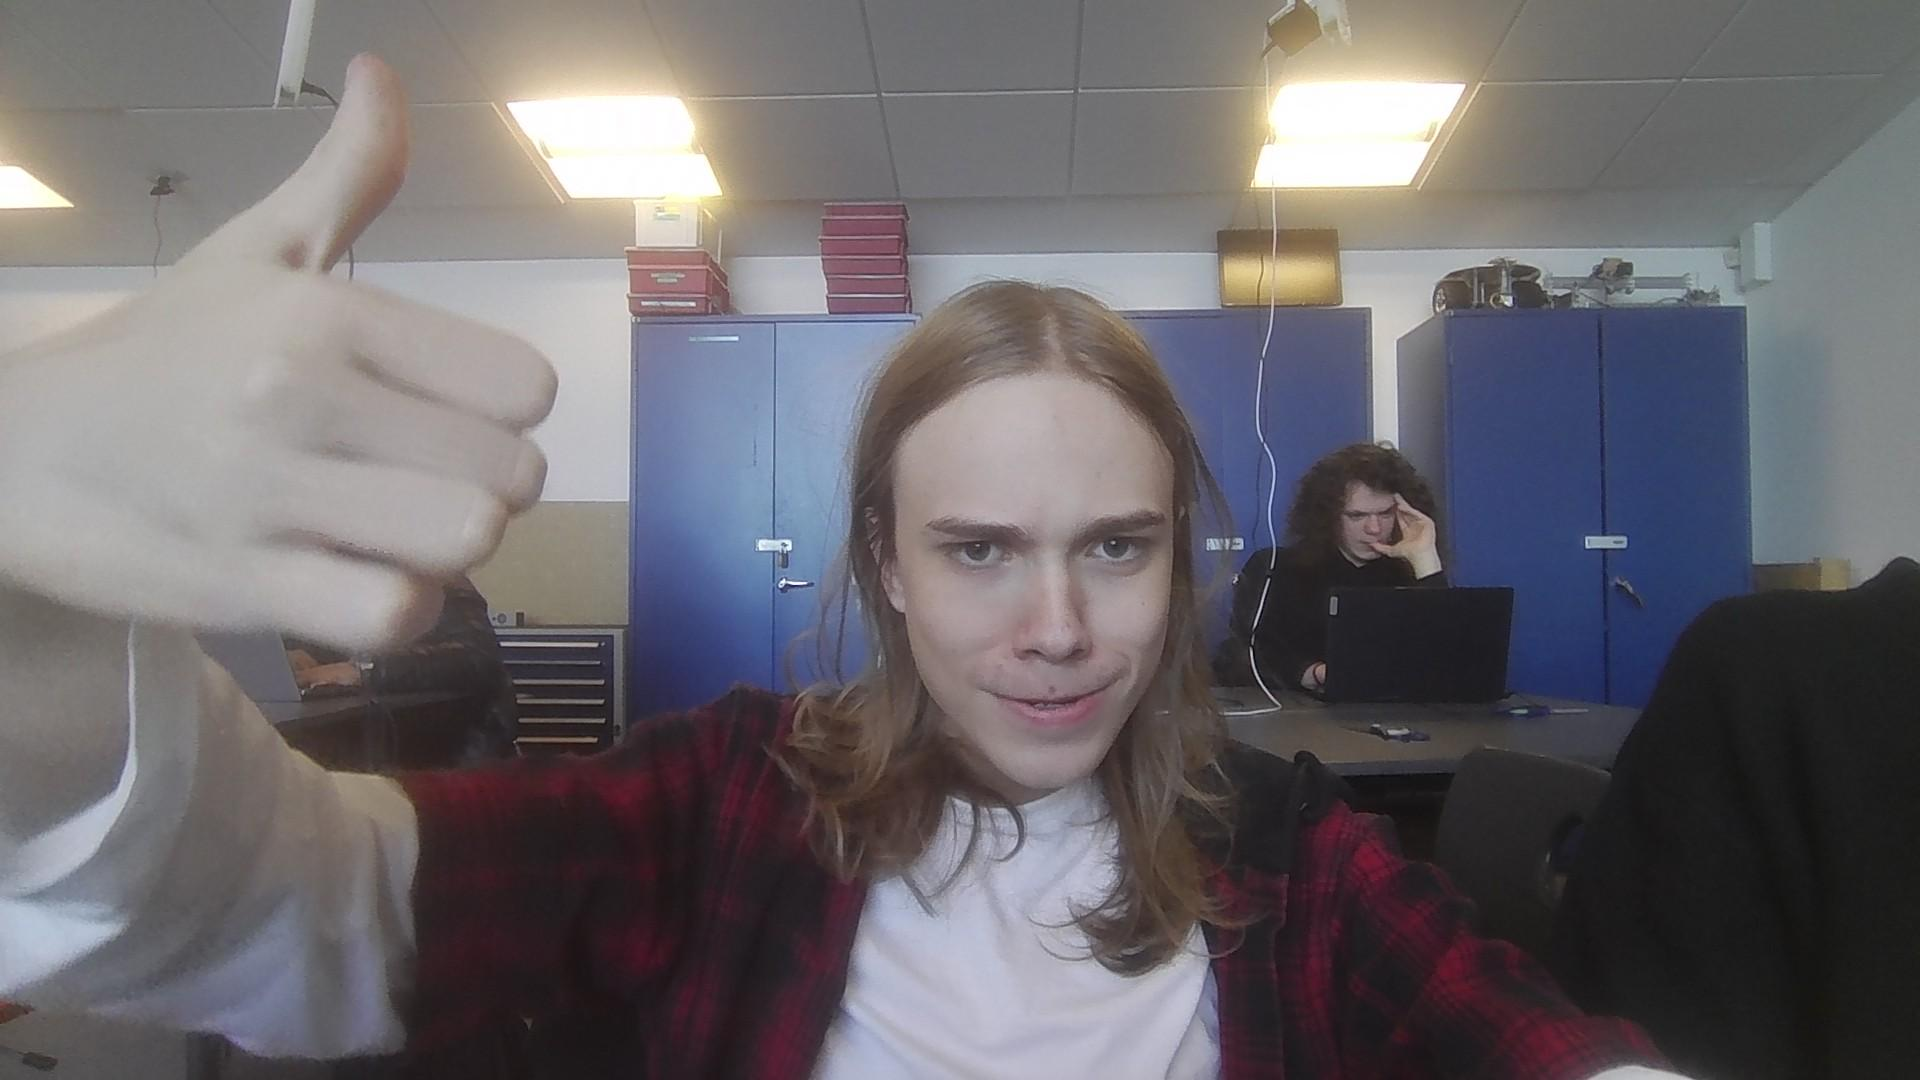thumbs up: (13, 55, 558, 662)
